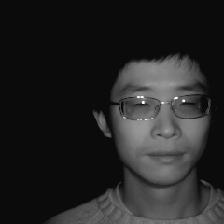normal: (80, 28, 224, 197)
